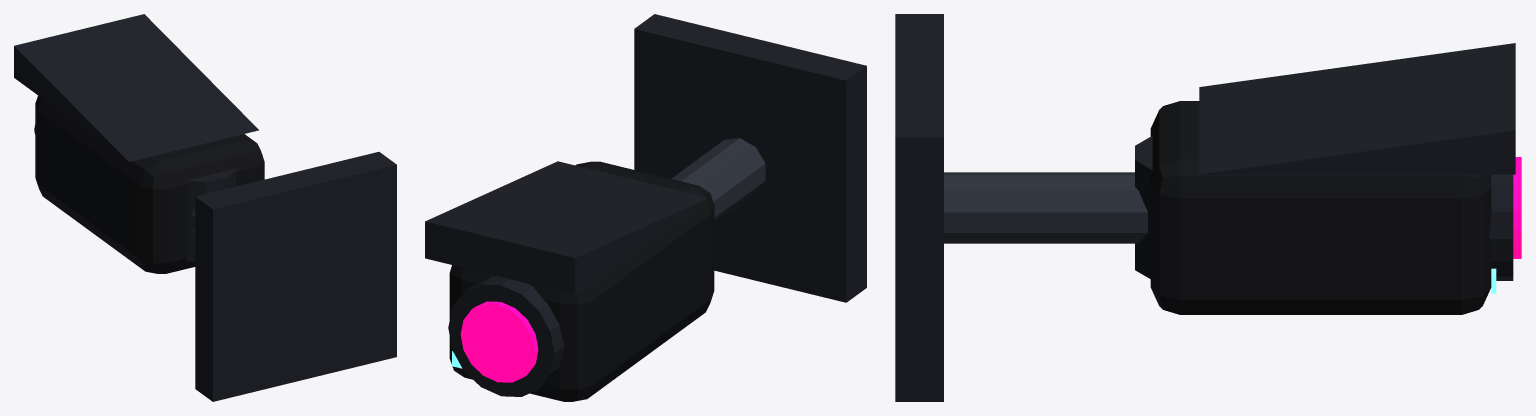
File: Prop_SecurityCamera.fbx
The picture shows the model from 3 angles, left to right: view 1: azimuth 30°, elevation 25°; view 2: azimuth 150°, elevation 25°; view 3: azimuth 270°, elevation 25°; orthographic projection. The views are drawn at different scales.
Visible parts, largest first — view 1: Prop_SecurityCamera__Cam_Mount_DarkMetal, Prop_SecurityCamera__Cam_Body_DarkMetal, Prop_SecurityCamera__Cam_Body_CarbonFiber; view 2: Prop_SecurityCamera__Cam_Mount_DarkMetal, Prop_SecurityCamera__Cam_Body_DarkMetal, Prop_SecurityCamera__Cam_Body_CarbonFiber, Prop_SecurityCamera__Cam_Body_NeonCrimson, Prop_SecurityCamera__Cam_Mount_SteelPanel; view 3: Prop_SecurityCamera__Cam_Body_CarbonFiber, Prop_SecurityCamera__Cam_Body_DarkMetal, Prop_SecurityCamera__Cam_Mount_DarkMetal, Prop_SecurityCamera__Cam_Mount_SteelPanel, Prop_SecurityCamera__Cam_Body_NeonCrimson.
Boxes of the visible parts, box(x1,y1,x2,y2) form: Prop_SecurityCamera__Cam_Mount_DarkMetal: box(185, 152, 396, 401); Prop_SecurityCamera__Cam_Body_DarkMetal: box(14, 14, 258, 161); Prop_SecurityCamera__Cam_Body_CarbonFiber: box(35, 95, 264, 273); Prop_SecurityCamera__Cam_Mount_DarkMetal: box(634, 14, 866, 302); Prop_SecurityCamera__Cam_Body_DarkMetal: box(425, 161, 707, 396); Prop_SecurityCamera__Cam_Body_CarbonFiber: box(449, 161, 714, 401); Prop_SecurityCamera__Cam_Body_NeonCrimson: box(460, 301, 538, 382); Prop_SecurityCamera__Cam_Mount_SteelPanel: box(671, 138, 765, 222); Prop_SecurityCamera__Cam_Body_CarbonFiber: box(1150, 101, 1491, 314); Prop_SecurityCamera__Cam_Body_DarkMetal: box(1199, 43, 1515, 280); Prop_SecurityCamera__Cam_Mount_DarkMetal: box(895, 14, 1152, 401); Prop_SecurityCamera__Cam_Mount_SteelPanel: box(944, 172, 1147, 243); Prop_SecurityCamera__Cam_Body_NeonCrimson: box(1513, 157, 1521, 258).
Size of the model in its own units: 1.2 by 1.2 by 2.58.
